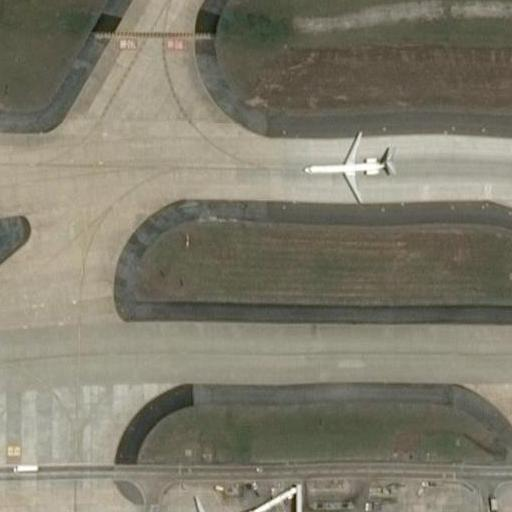Aircraft: (294, 126, 394, 195), (145, 488, 255, 512)
